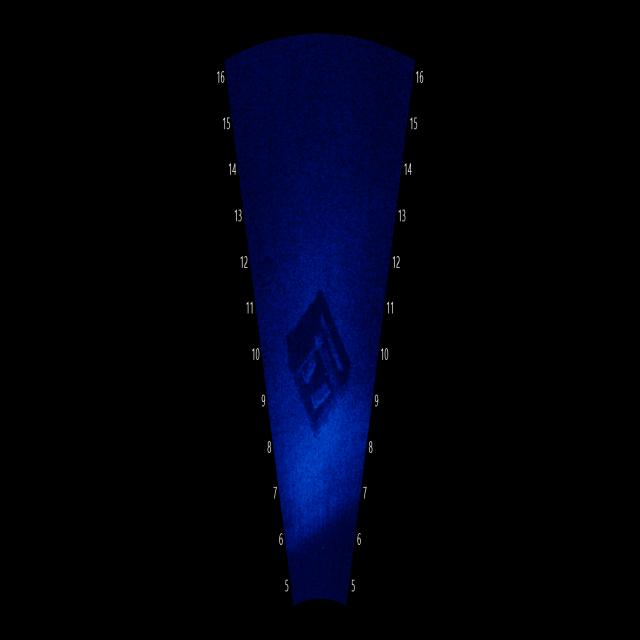square: (279, 284, 361, 451)
